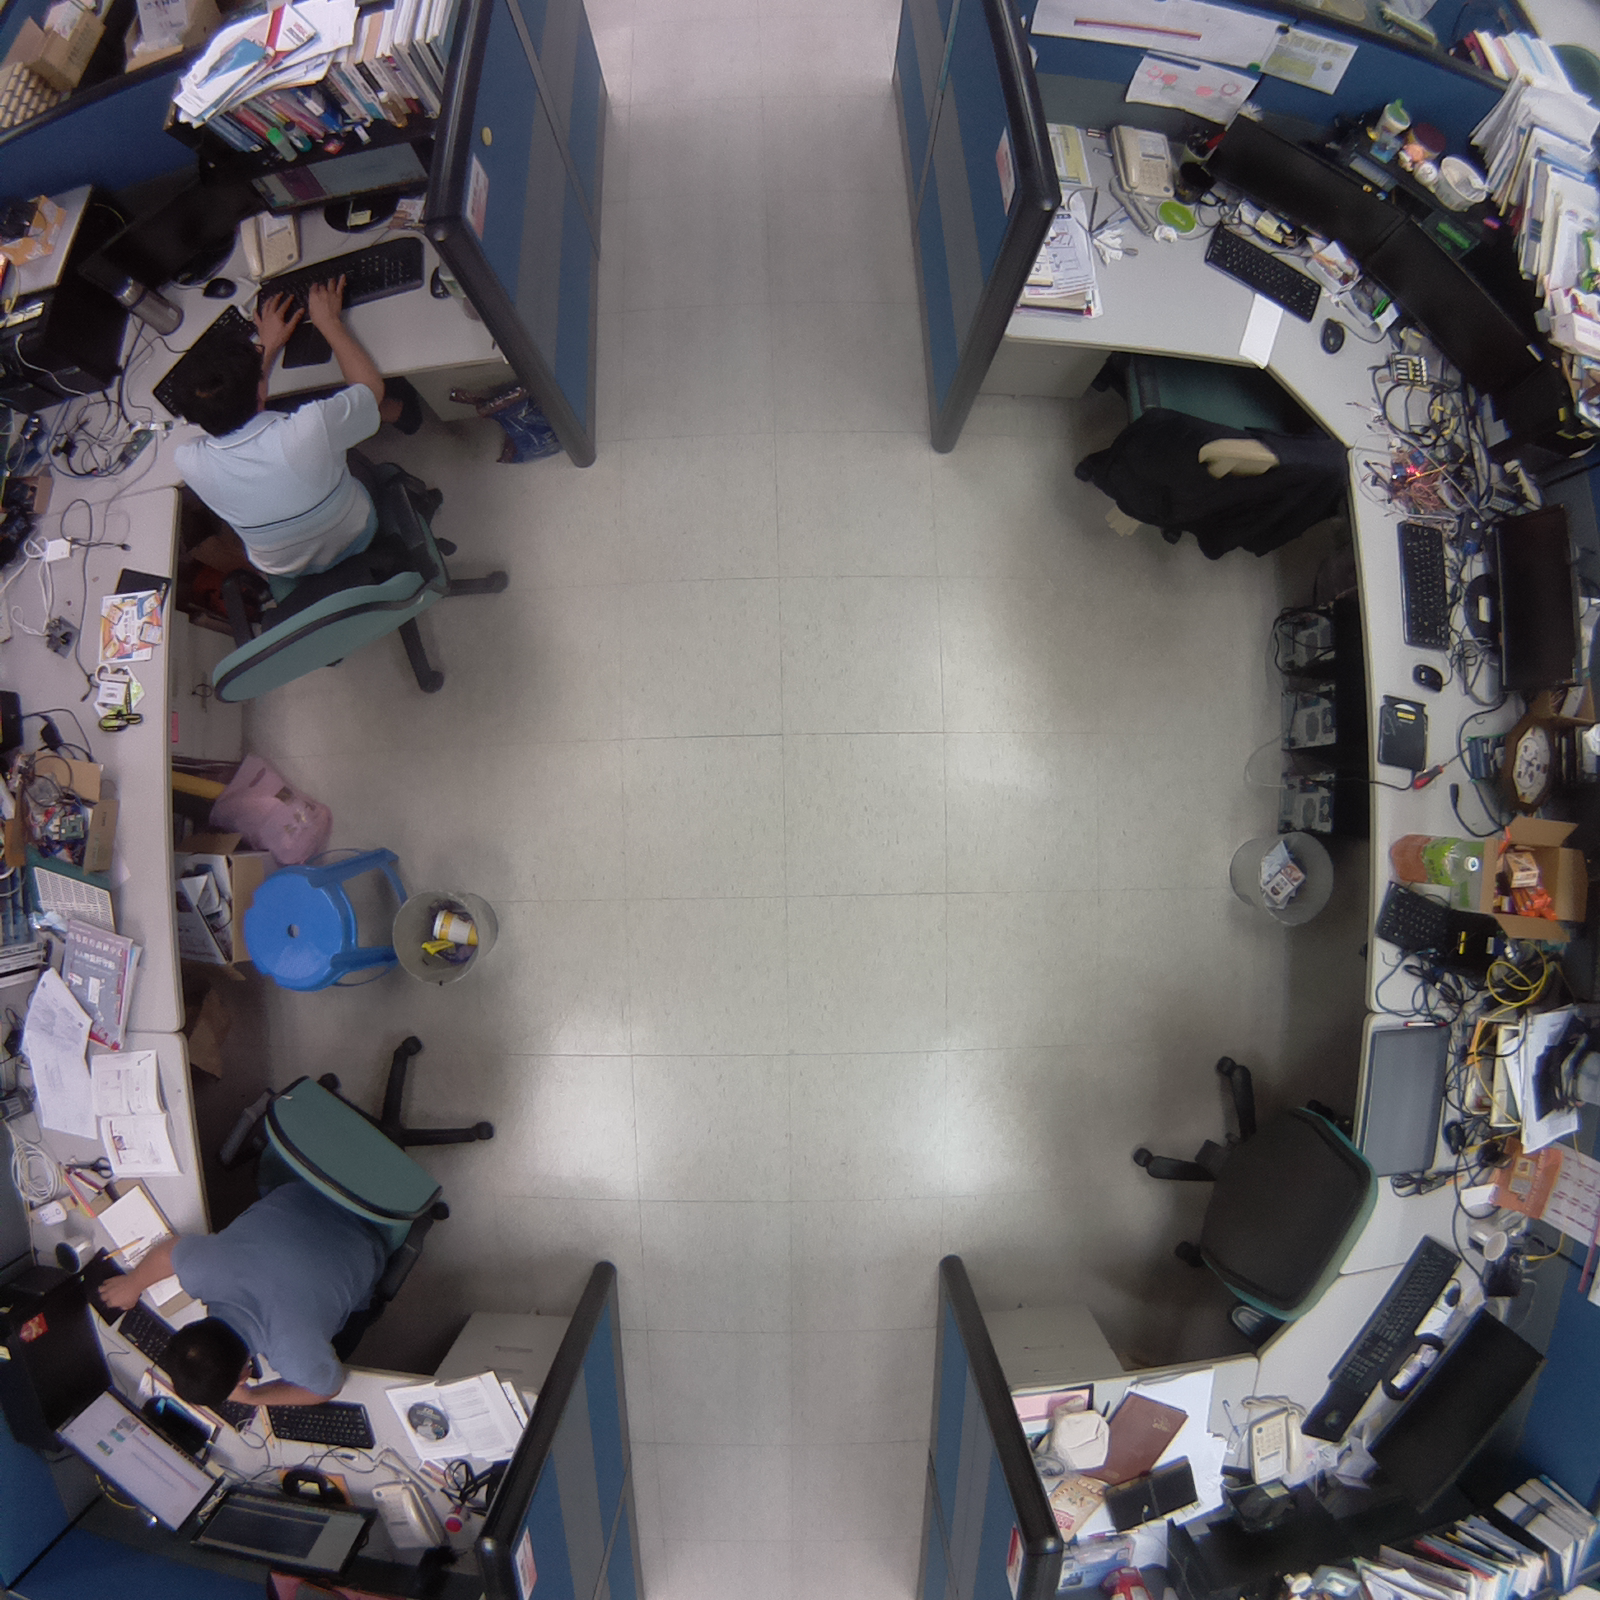chair: (1047, 327, 1373, 583), (1114, 1040, 1383, 1350)
head: (157, 1311, 257, 1416), (172, 334, 274, 423)
sitting: (93, 1024, 506, 1426), (159, 267, 522, 714)
